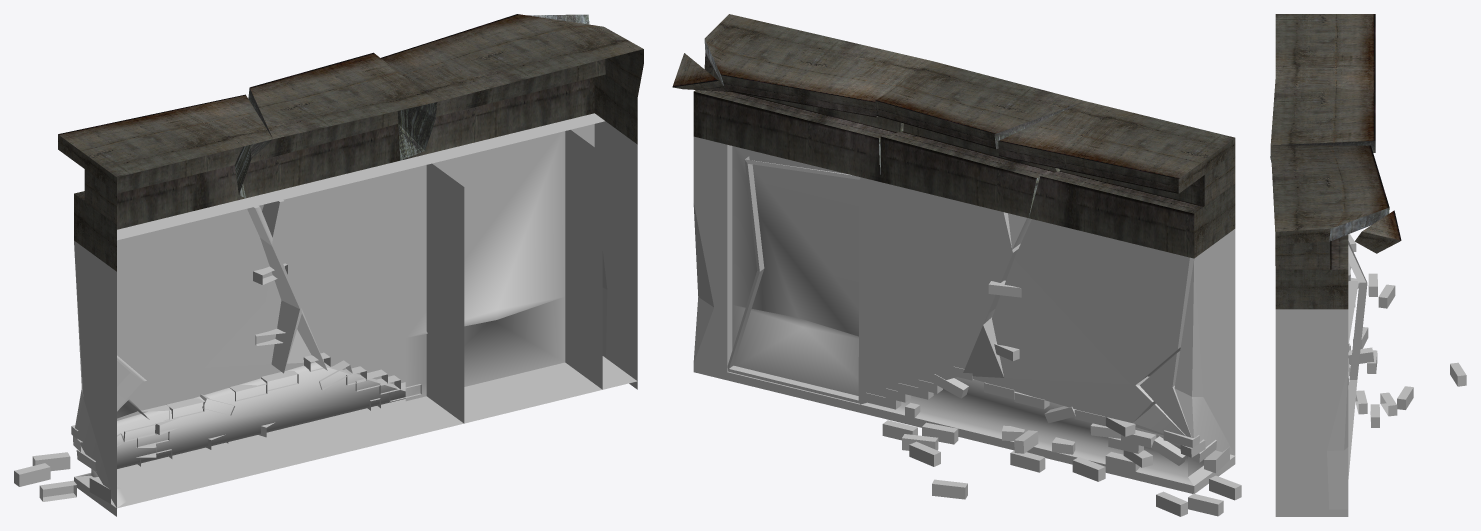
Rendered from Store_front_17_A.fbx.
3 renders of one model, left to right at view 1: azimuth 30°, elevation 25°; view 2: azimuth 150°, elevation 25°; view 3: azimuth 270°, elevation 25°, orthographic. The views are drawn at different scales.
Parts seen in each view (by area): view 1: Store_front_17_A; view 2: Store_front_17_A; view 3: Store_front_17_A.
Part boxes in pixels (x1,y1,x2,y2): Store_front_17_A: (14, 14, 643, 516); Store_front_17_A: (672, 14, 1241, 516); Store_front_17_A: (1270, 14, 1466, 516).
Size of the model in its own units: 765 by 442 by 269.
